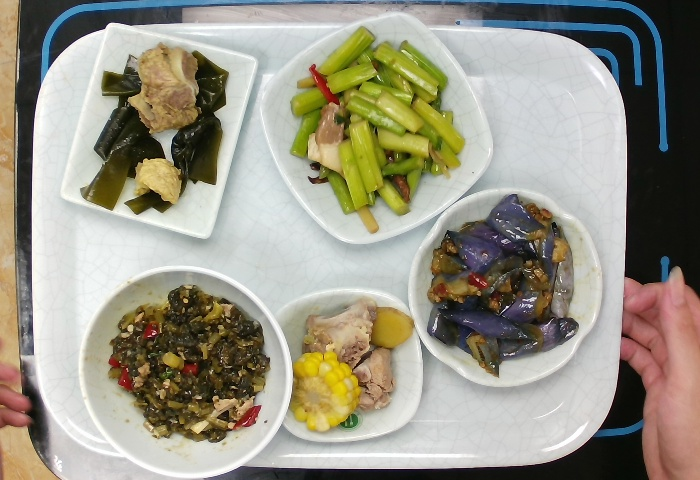JYsf-Ao_Yuan_Wan: (403, 183, 608, 392)
JYsf-Fan_Wan: (73, 261, 297, 480)
JYsf-Si_Fang_Die: (270, 283, 426, 447)
WCQzf-Da_Si_Fang_Die: (256, 9, 497, 248)
WCQzf-Ru_Ci_Si_Fang_Die: (56, 19, 261, 243)
